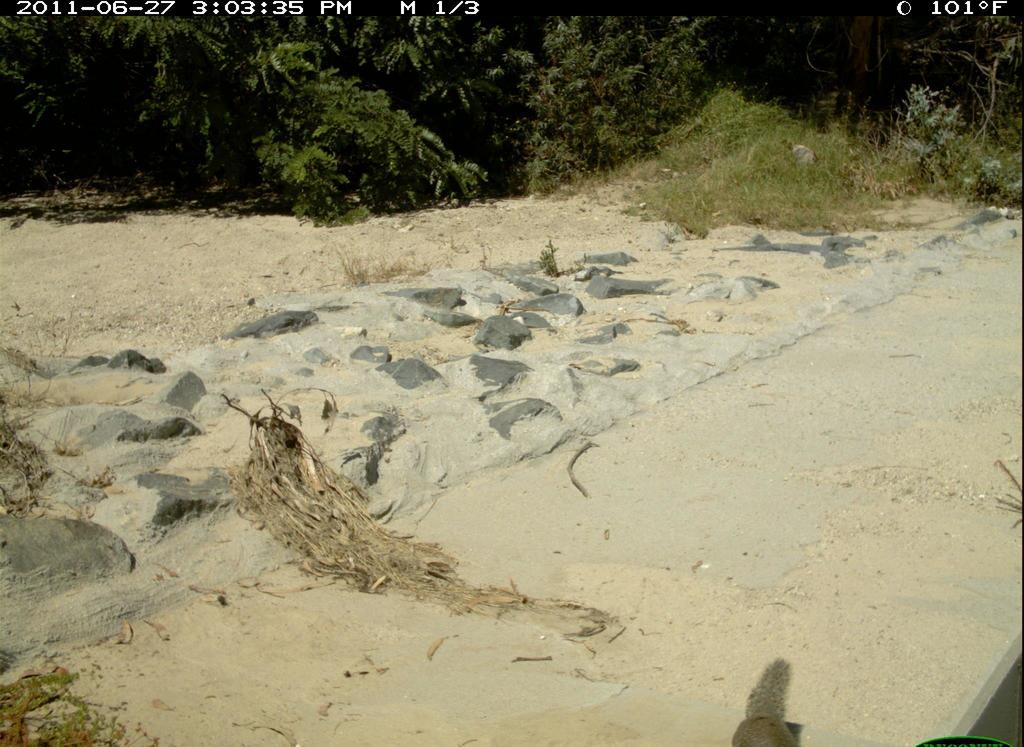squirrel: (724, 652, 818, 747)
